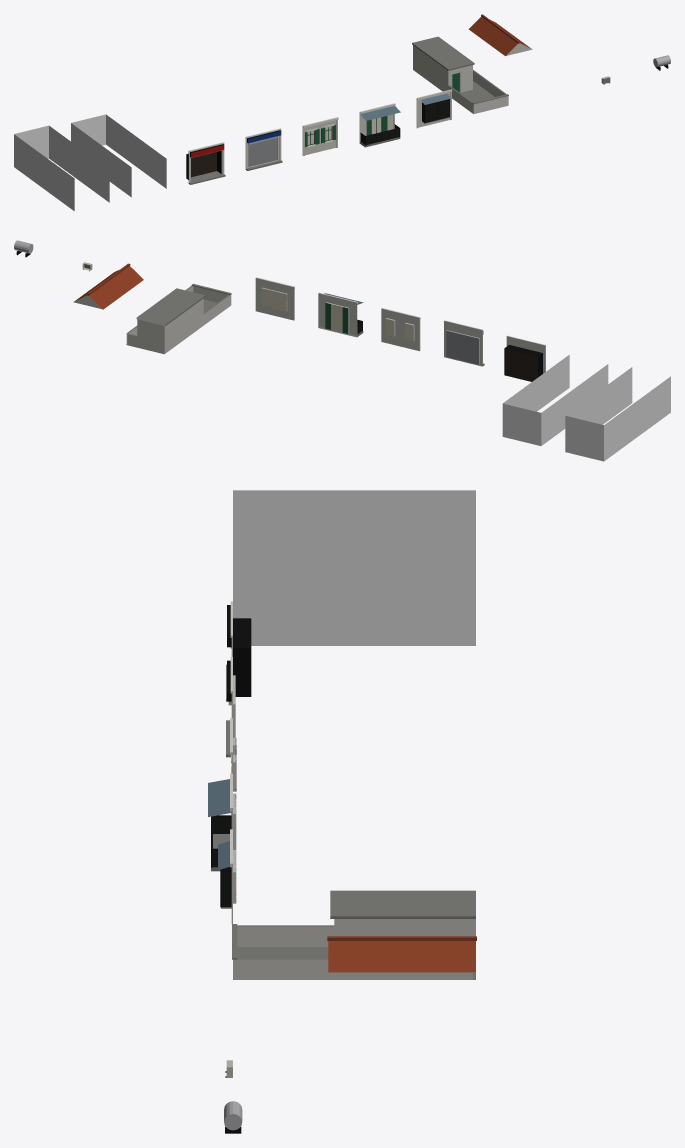
Rendered from Kit_HanoiTube.fbx.
3 renders of one model, top to bottom at view 1: azimuth 30°, elevation 25°; view 2: azimuth 150°, elevation 25°; view 3: azimuth 270°, elevation 25°, orthographic. The views are drawn at different scales.
Visible parts, largest first — view 1: Body_GF_LOD0, Body_UF_LOD0, RF_Terrace_LOD0, UF_Balcony_LOD0, GF_Shop_LOD0, GF_Roller_LOD0, RF_TileRoof_LOD0, UF_Cage_LOD0, UF_Shutter_LOD0; view 2: Body_GF_LOD0, Body_UF_LOD0, RF_Terrace_LOD0, GF_Shop_LOD0, UF_Balcony_LOD0, GF_Roller_LOD0, RF_TileRoof_LOD0, UF_Shutter_LOD0, UF_Cage_LOD0; view 3: Body_UF_LOD0, Body_GF_LOD0, RF_Terrace_LOD0, RF_TileRoof_LOD0, UF_Balcony_LOD0, GF_Shop_LOD0, UF_Cage_LOD0.
Part boxes in pixels (x1=…): Body_GF_LOD0: x1=14, y1=125, x2=109, y2=210; Body_UF_LOD0: x1=71, y1=114, x2=166, y2=197; RF_Terrace_LOD0: x1=412, y1=36, x2=508, y2=113; UF_Balcony_LOD0: x1=359, y1=103, x2=400, y2=147; GF_Shop_LOD0: x1=186, y1=142, x2=225, y2=184; GF_Roller_LOD0: x1=245, y1=128, x2=282, y2=170; RF_TileRoof_LOD0: x1=468, y1=14, x2=532, y2=56; UF_Cage_LOD0: x1=416, y1=89, x2=452, y2=128; UF_Shutter_LOD0: x1=302, y1=117, x2=338, y2=155; Body_GF_LOD0: x1=565, y1=367, x2=670, y2=461; Body_UF_LOD0: x1=502, y1=354, x2=608, y2=445; RF_Terrace_LOD0: x1=126, y1=283, x2=231, y2=354; GF_Shop_LOD0: x1=504, y1=335, x2=545, y2=381; UF_Balcony_LOD0: x1=318, y1=292, x2=363, y2=337; GF_Roller_LOD0: x1=444, y1=320, x2=484, y2=366; RF_TileRoof_LOD0: x1=73, y1=263, x2=143, y2=309; UF_Shutter_LOD0: x1=381, y1=308, x2=420, y2=351; UF_Cage_LOD0: x1=255, y1=277, x2=294, y2=320; Body_UF_LOD0: x1=233, y1=551, x2=475, y2=645; Body_GF_LOD0: x1=233, y1=490, x2=475, y2=551; RF_Terrace_LOD0: x1=232, y1=890, x2=475, y2=979; RF_TileRoof_LOD0: x1=327, y1=936, x2=476, y2=972; UF_Balcony_LOD0: x1=208, y1=773, x2=236, y2=871; GF_Shop_LOD0: x1=226, y1=601, x2=251, y2=701; UF_Cage_LOD0: x1=218, y1=829, x2=236, y2=923.
Size of what is drawn, in the model's own units: 67.75 by 4.3 by 13.3.
